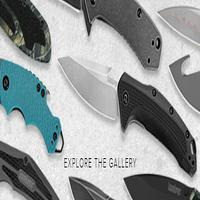knife: (55, 54, 200, 176), (118, 173, 198, 200), (165, 51, 200, 103), (154, 3, 200, 40)
